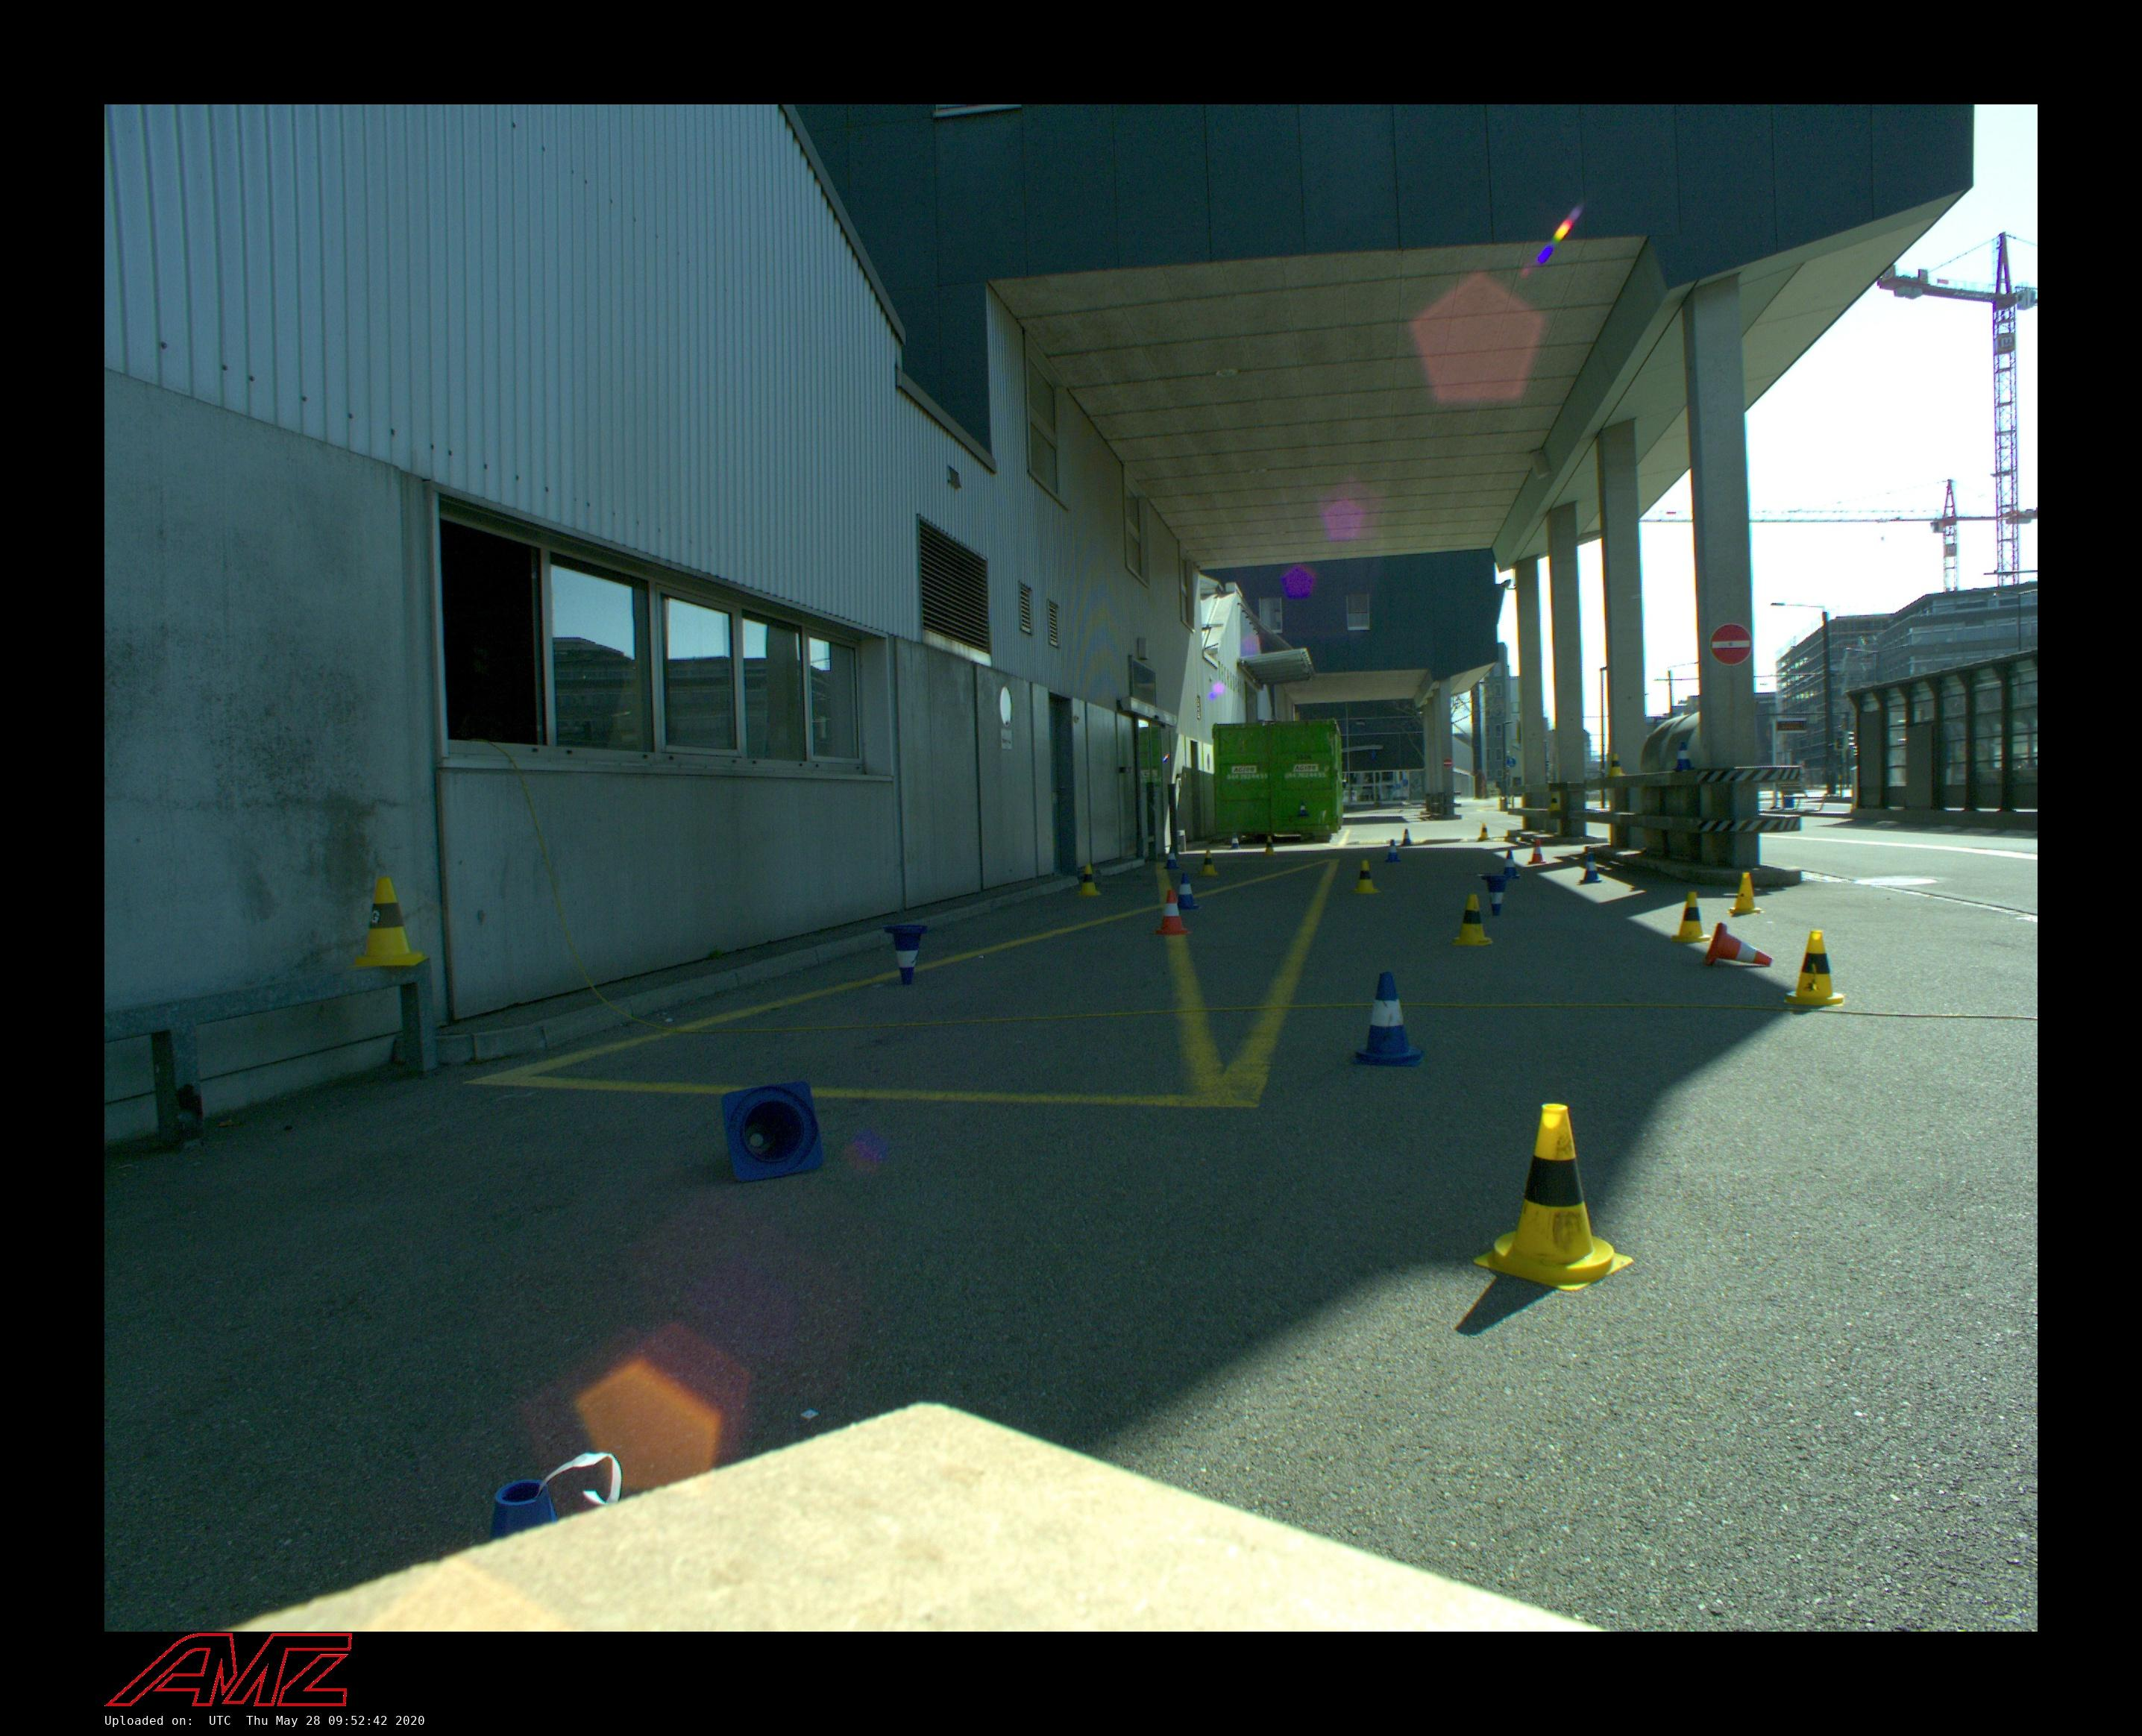blue_cone: (720, 1079, 825, 1183), (1351, 971, 1425, 1067), (882, 925, 928, 986), (1479, 875, 1512, 916), (1170, 872, 1202, 910), (1580, 852, 1602, 884), (1672, 741, 1695, 770), (1500, 850, 1520, 879), (1383, 840, 1401, 863), (1164, 847, 1180, 869), (1401, 829, 1413, 846), (1230, 834, 1242, 849)
orange_cone: (1703, 922, 1772, 966), (1150, 890, 1193, 935), (1528, 840, 1546, 864)
yellow_cone: (1470, 1102, 1634, 1292), (351, 876, 430, 968), (1783, 931, 1844, 1007), (1451, 894, 1493, 946), (1671, 892, 1712, 943), (1727, 872, 1765, 915), (1351, 860, 1381, 894), (1075, 864, 1102, 896), (1199, 850, 1219, 876), (1606, 753, 1626, 776), (1263, 835, 1278, 856), (1547, 793, 1561, 811), (1477, 823, 1490, 840)
